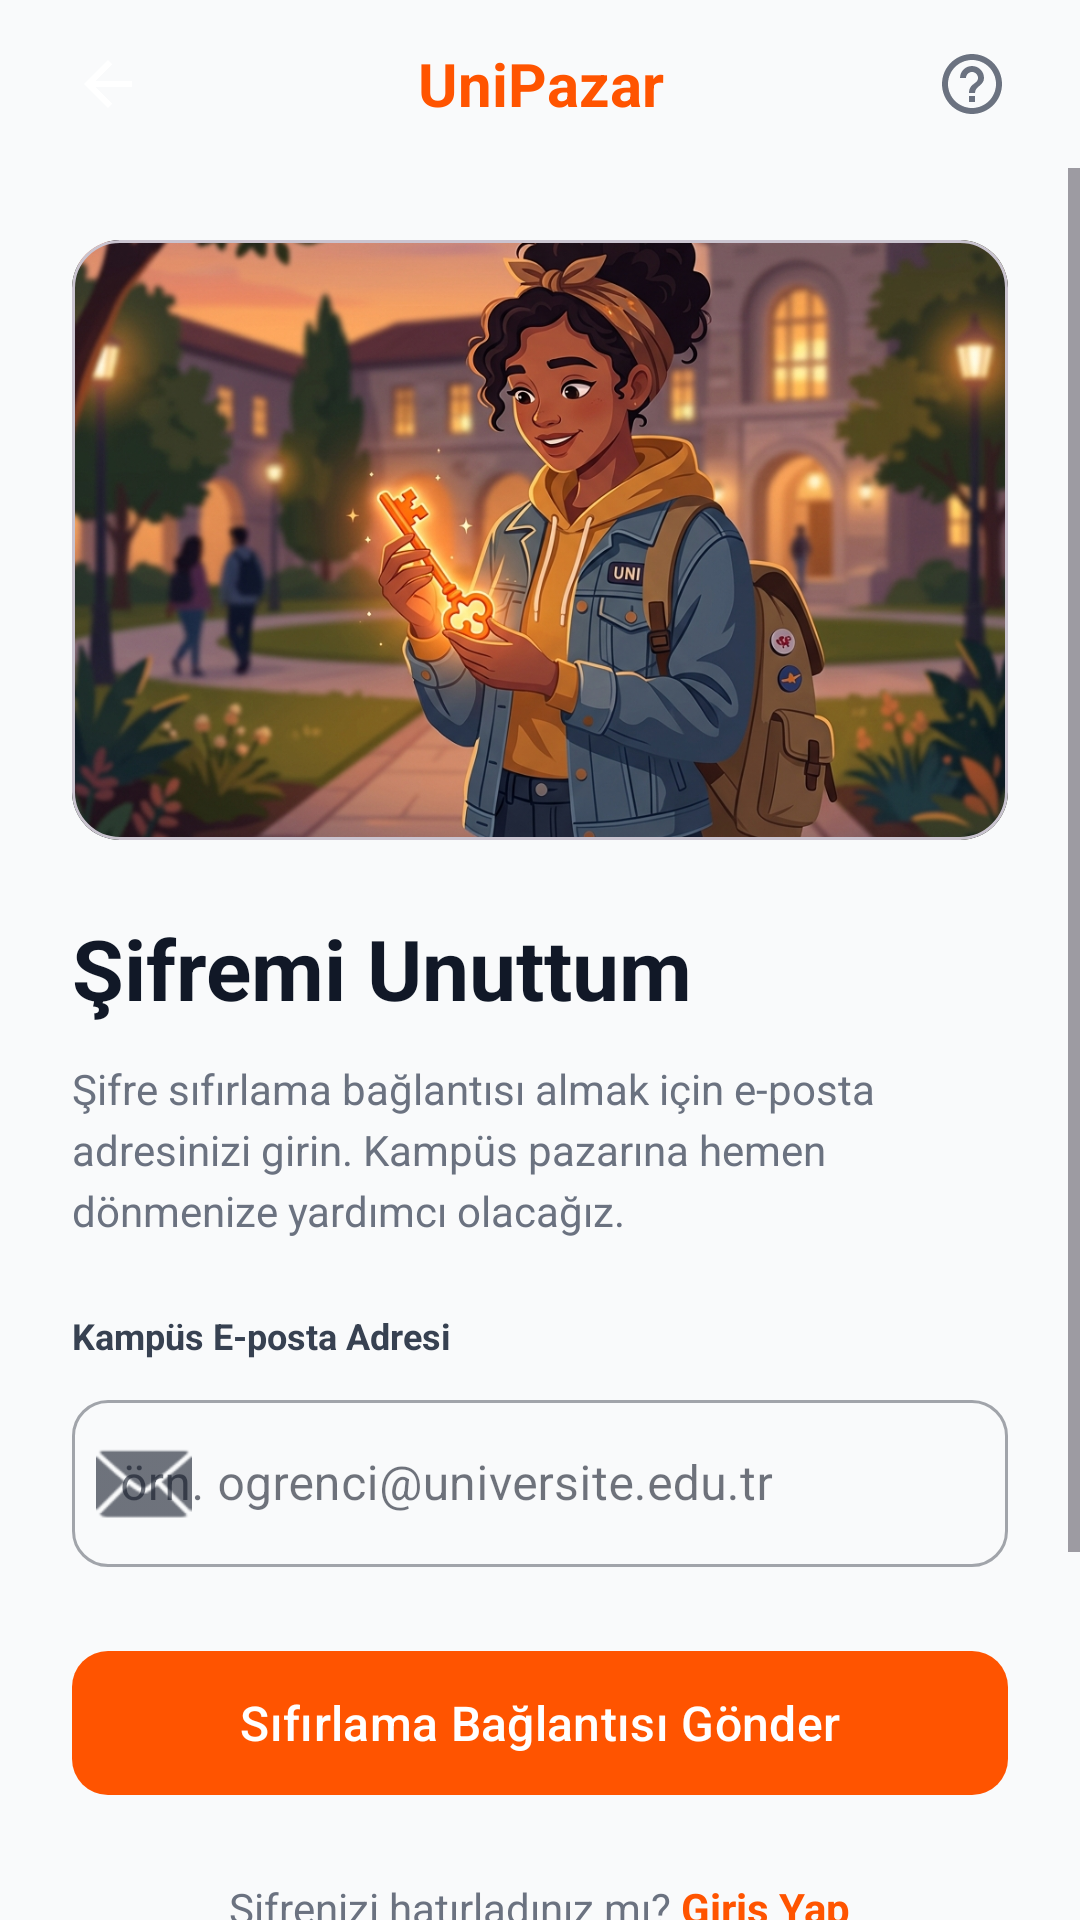

Where to tap for icons on this 1080px×1920px app screen, as (x=x, y=y):
help: (x=972, y=84)
